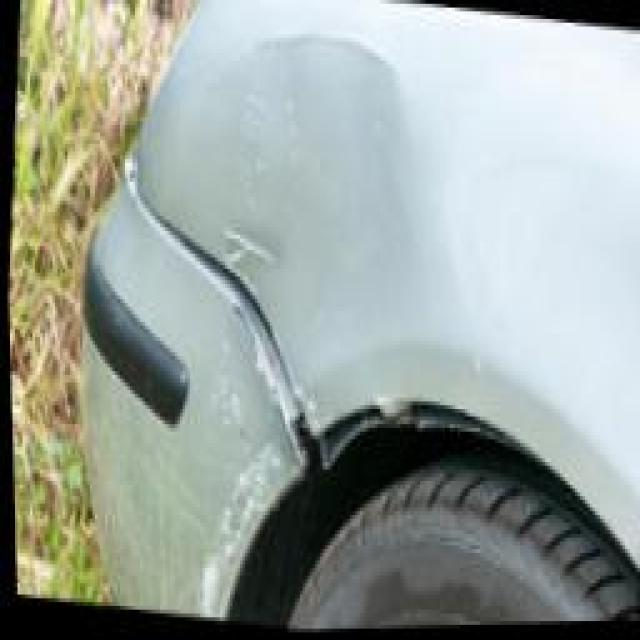Bumper: (75, 209, 307, 612)
Fender: (141, 11, 577, 419)
